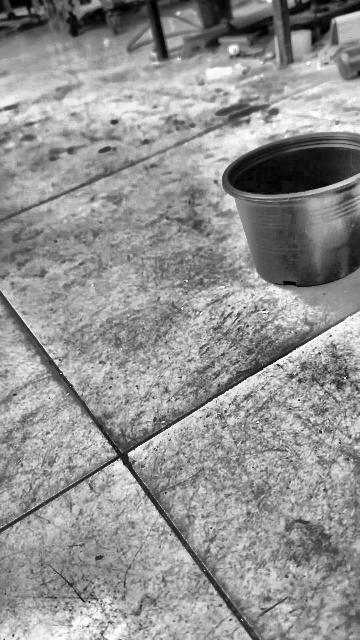pot: (223, 131, 360, 287)
